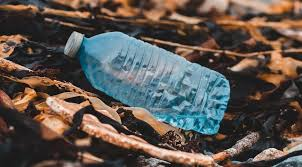plastic_bottle: (64, 31, 230, 135)
